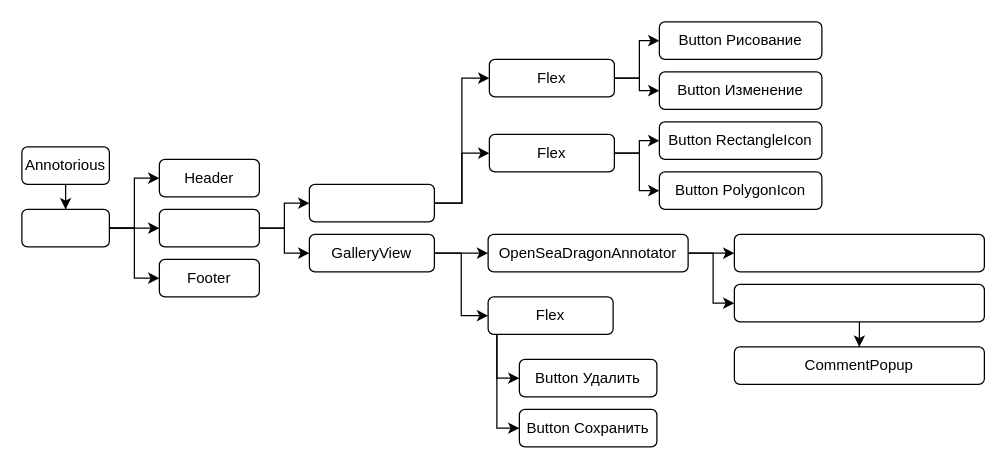
Some shapes in this 1006 by 469 pixel diagram are drawn without their labels. Each missing label, with the box of its shape:
App: (21, 208, 109, 247)
Gallery: (158, 208, 259, 247)
GalleryHeader: (308, 183, 434, 222)
OpenSeadragonAnnotationPopup: (733, 283, 984, 322)
OpenSeaDragonViewer: (733, 233, 984, 272)
